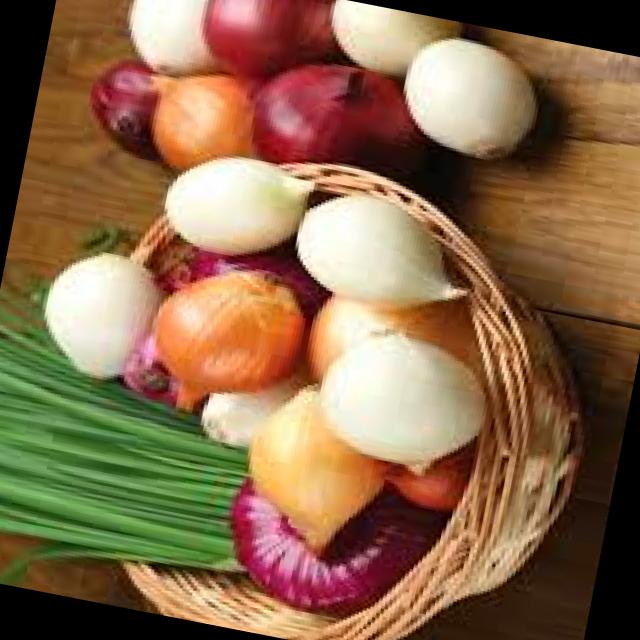Onion: (292, 305, 503, 514), (220, 352, 395, 568), (242, 20, 426, 204), (272, 180, 464, 336), (378, 11, 555, 180), (152, 256, 312, 429), (30, 223, 165, 404), (154, 133, 320, 275), (134, 51, 276, 186), (182, 0, 340, 107), (279, 0, 456, 89), (72, 35, 178, 164), (101, 0, 227, 97)
